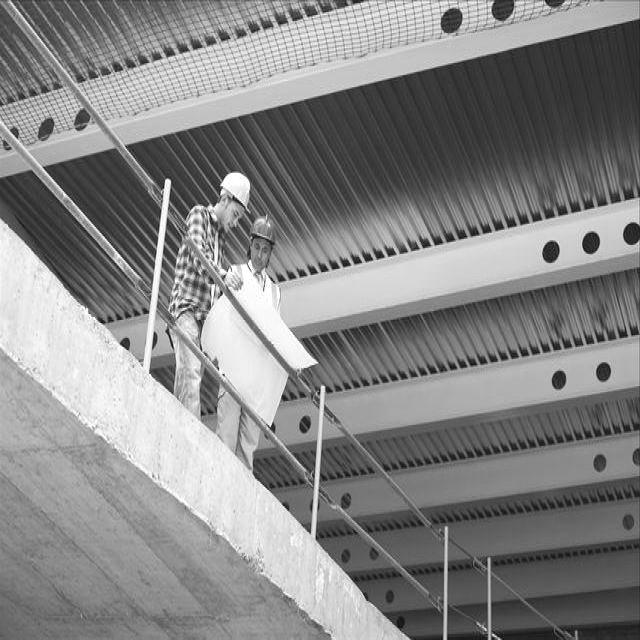face_nomask: (224, 203, 247, 229), (250, 240, 270, 269)
hand_noglove: (222, 268, 247, 292)
head_helmet: (219, 171, 255, 212), (252, 213, 279, 248)
person: (160, 171, 256, 425), (212, 211, 288, 470)
